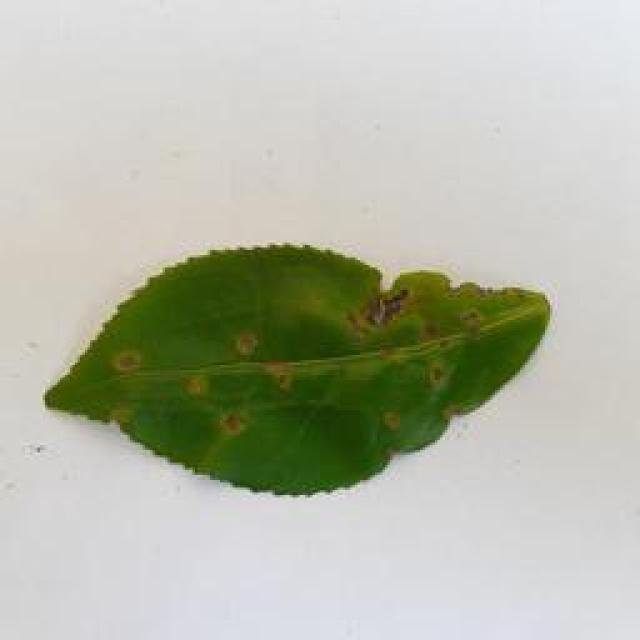Helopeltis: (41, 243, 588, 505)
